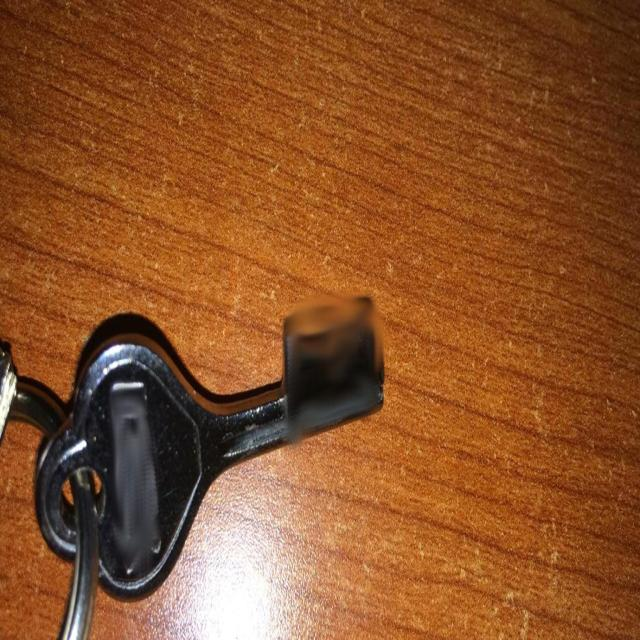Frontdoor keys: (32, 285, 388, 609)
